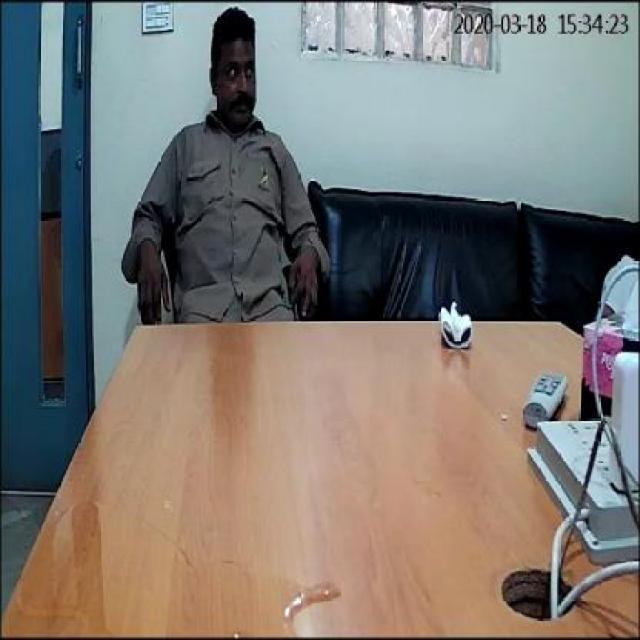spill: (10, 498, 342, 636)
